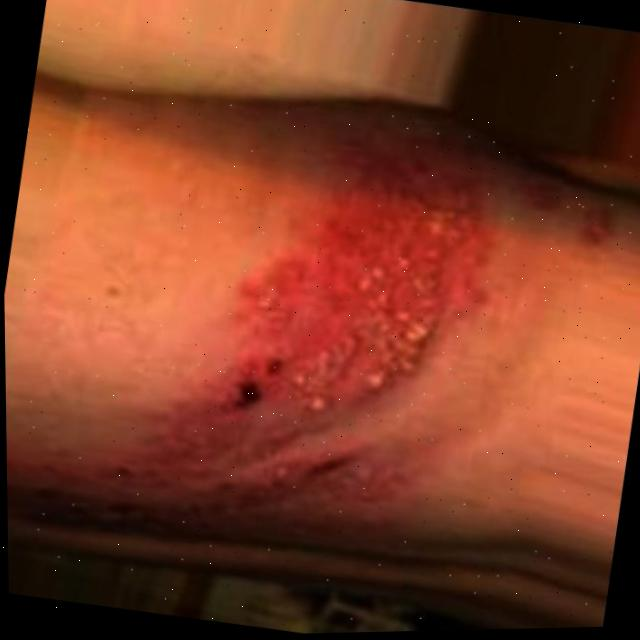Shingles: (245, 154, 491, 432)
